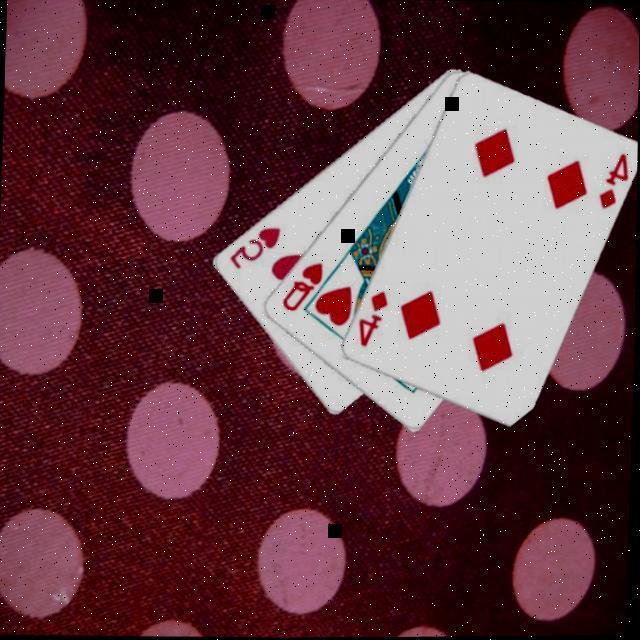4D: (593, 151, 630, 214), (352, 289, 388, 352)
5H: (224, 224, 282, 273)
QH: (276, 258, 324, 316)
